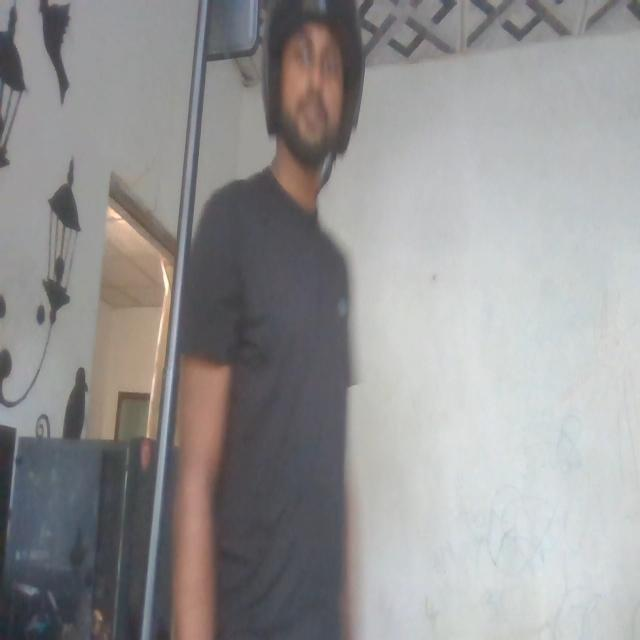Helmet_Wearer: (255, 0, 368, 207)
Person: (175, 0, 368, 640)
